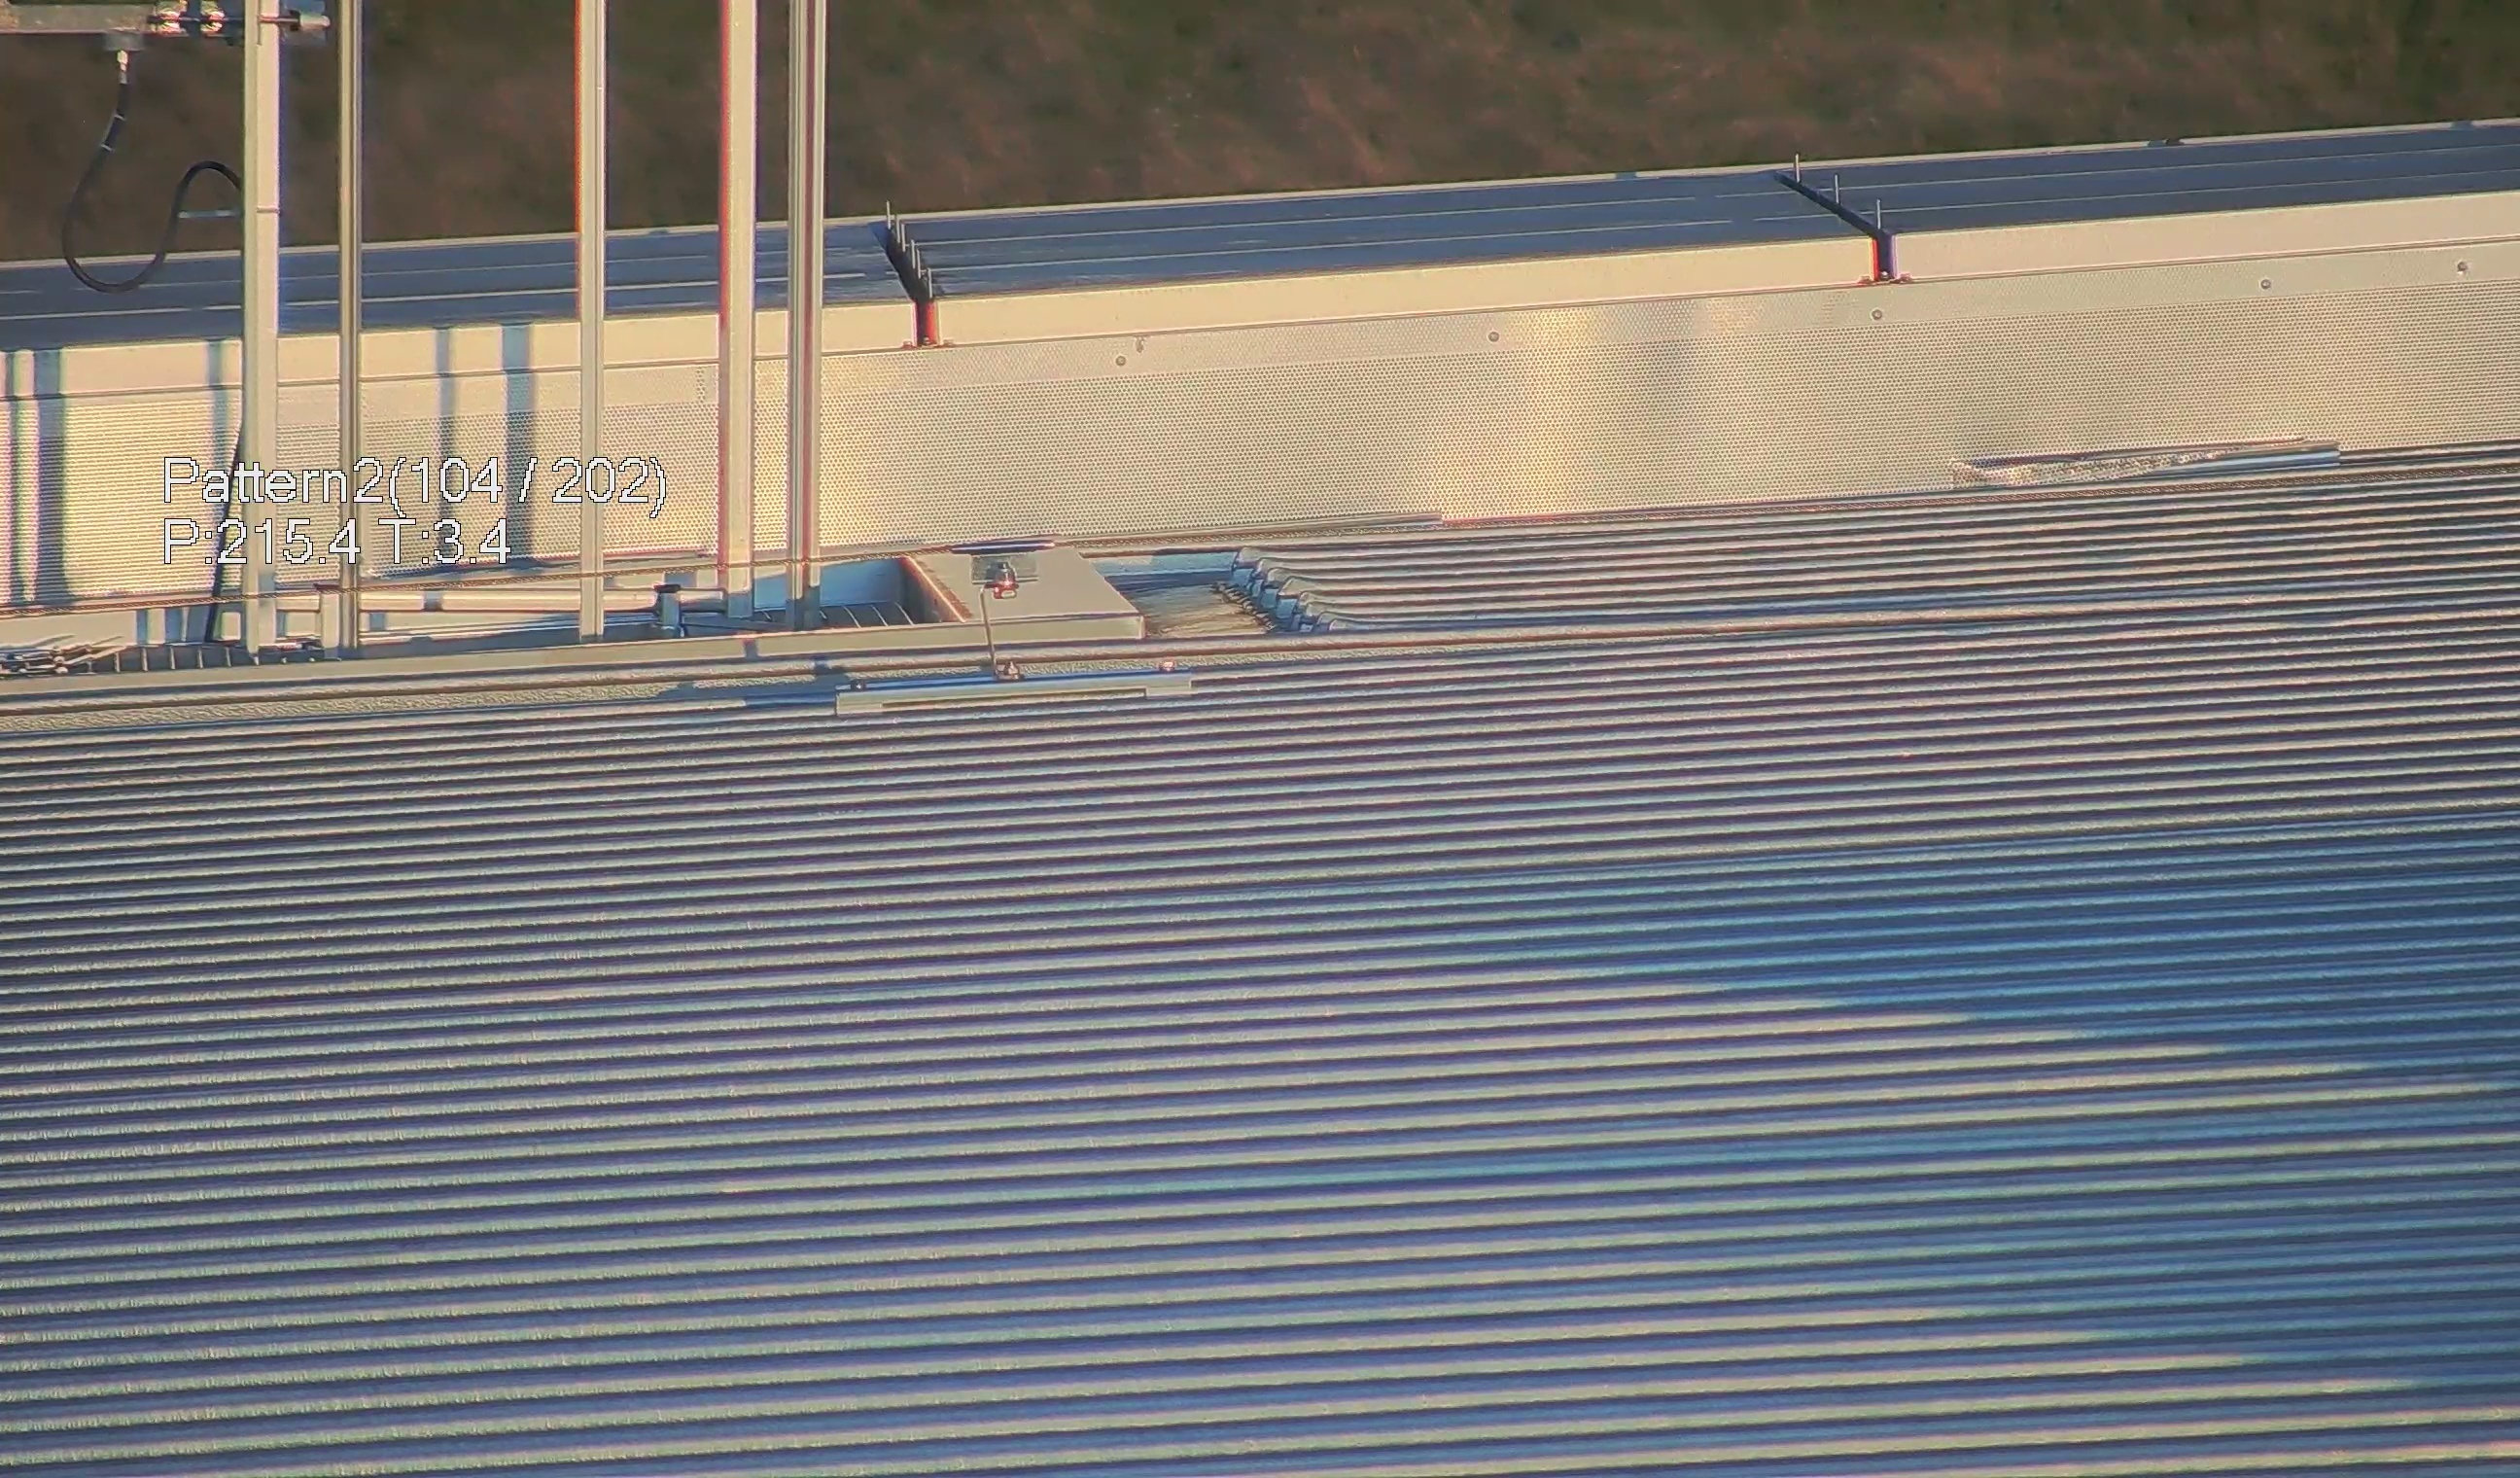Other: (860, 194, 958, 348)
